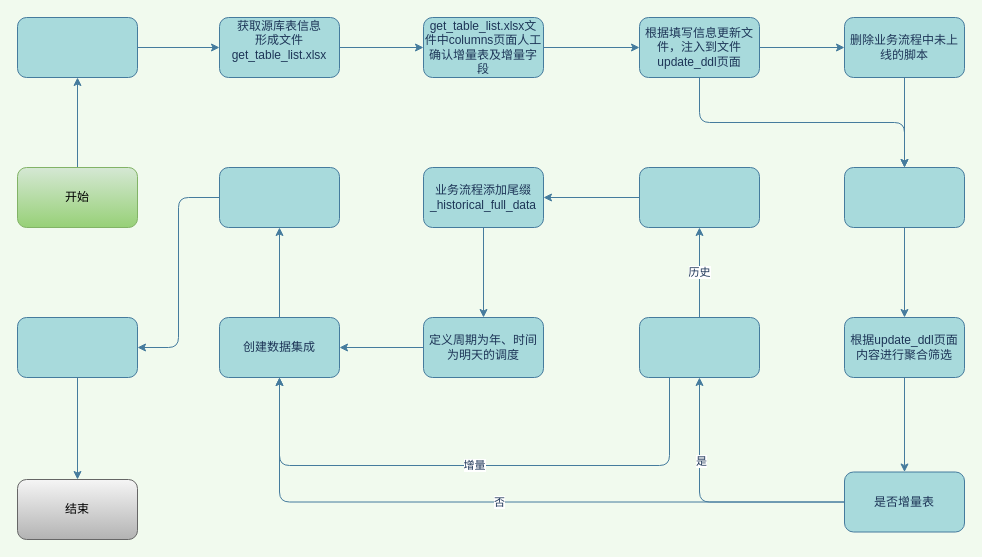
This 982x557 diagram has some shape labels left out. Here are the shapes that lost their labels. From the top down, the centre of each, then its label:
[77,47]: 填写配置信息
[279,197]: 提交数据集成到开发环境
[699,197]: 业务流程根节点创建_historical_full_data文件夹
[904,197]: 根据update_ddl页面内容进行建表
[77,347]: 提交数据集成到生产环境
[699,347]: 增量数据操作 or 历史数据操作
